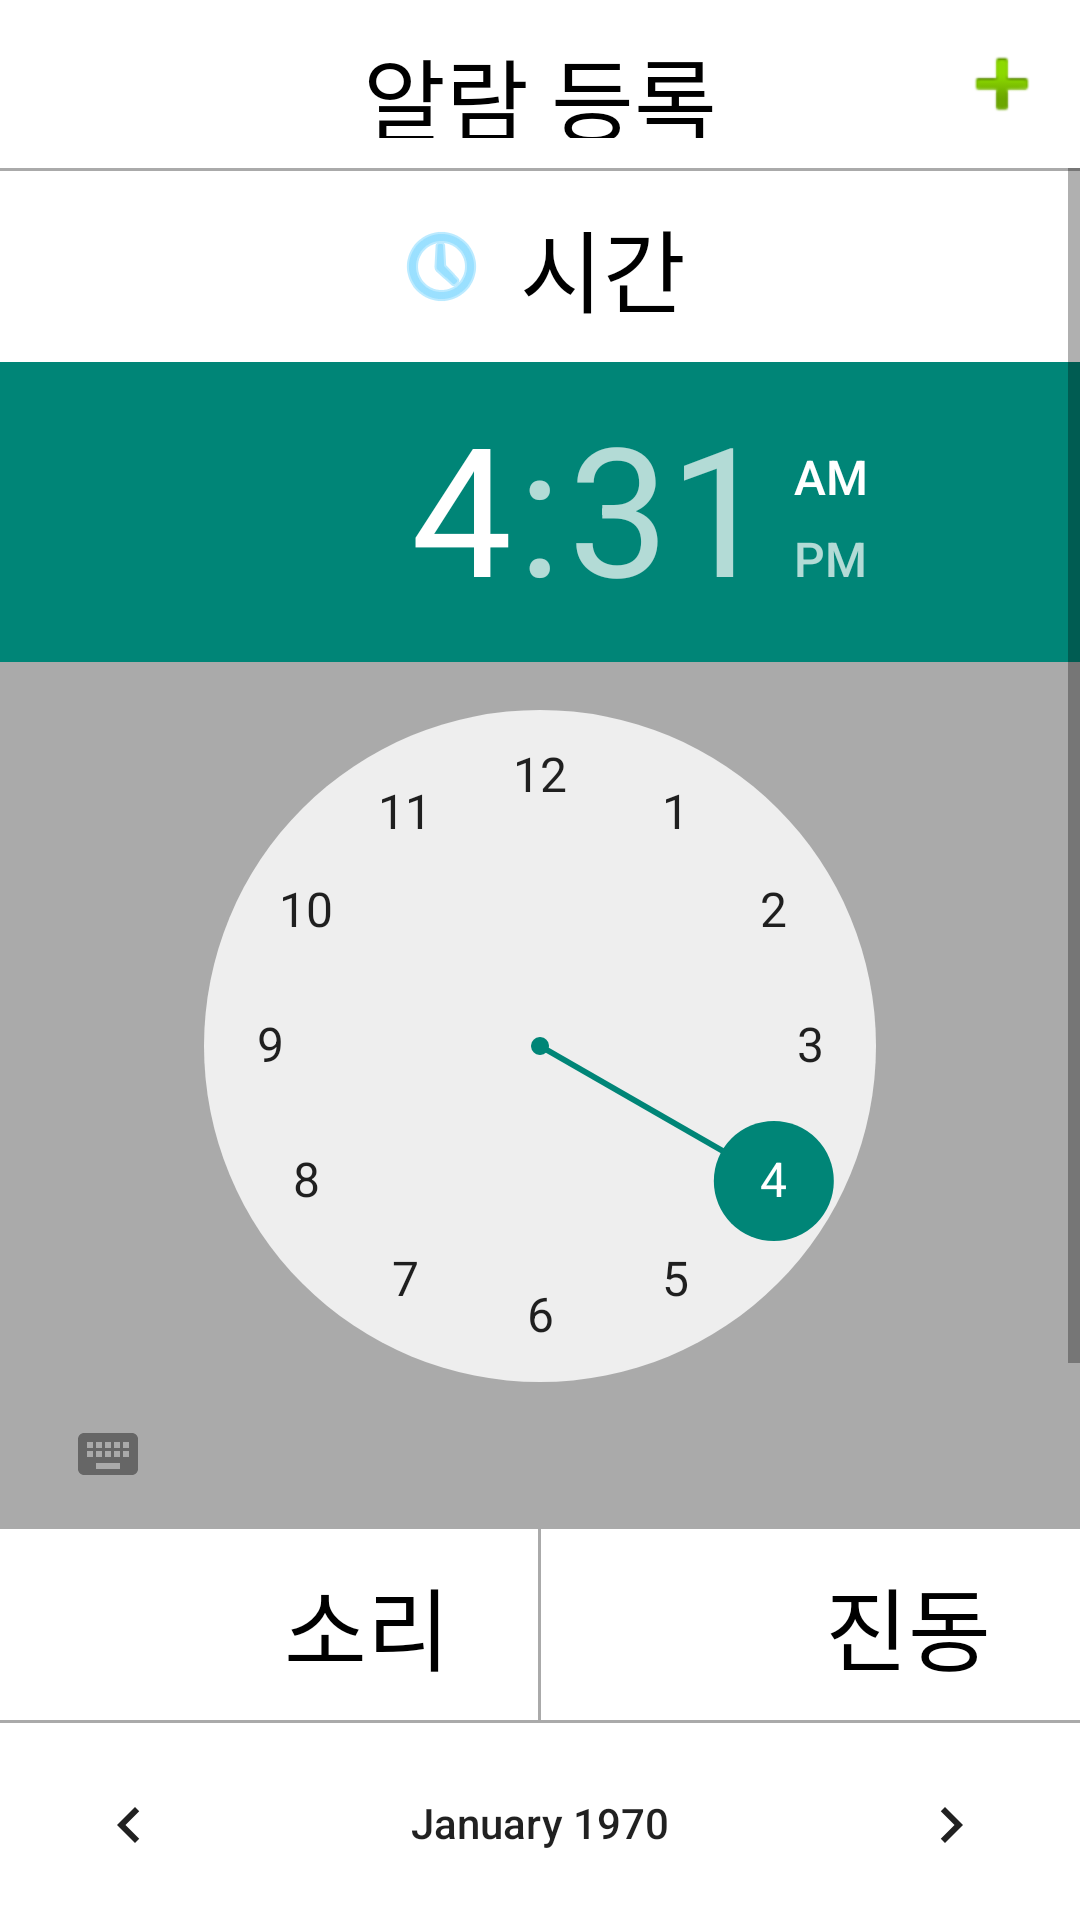

Locate icon controls on the screen. Image size 1080px×1920px, boxes as (x1,y1,x2,y2).
add: (975,57,1029,111)
recent history: (407,232,476,301)
